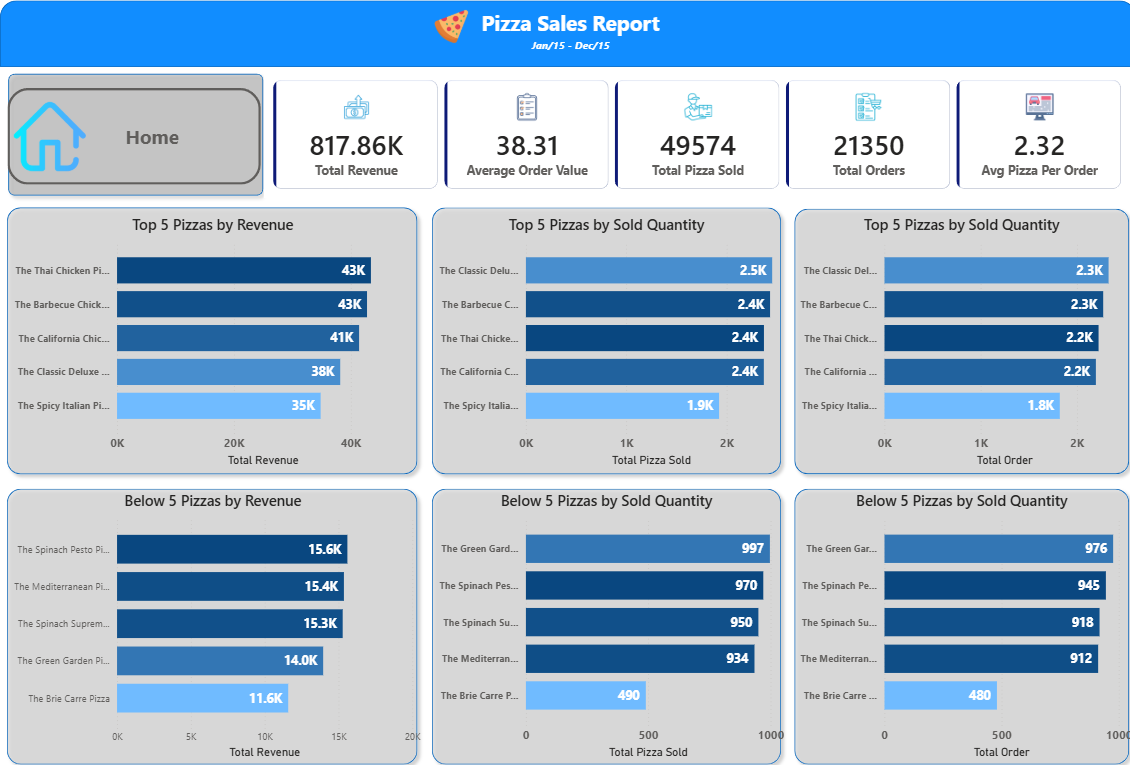

The page's visual inventory and layout, read from the dashboard file:
{"tool":"powerbi","page":{"name":"Top/Bottom Best Sellers","canvas":[1450,1000],"ordinal":1},"visuals":[{"type":"shape","box":[1.7,100,343.3,173.3],"z":0},{"type":"shape","box":[0,271.7,541.7,358.3],"z":1000},{"type":"cardVisual","fields":{"Data":["pizza_sales.Total Revenue","pizza_sales.average_order_value","pizza_sales.total_pizza_sold","pizza_sales.total_order","pizza_sales.avg_pizza_per_order"]},"box":[331.7,100,1118.3,173.3],"z":2000},{"type":"shape","box":[0,15.4,1450,84.8],"z":3000},{"type":"image","box":[541.8,27,67.5,44.3],"z":4000},{"type":"textbox","box":[609.3,21.2,252.6,55.9],"z":5000},{"type":"textbox","box":[672.9,59.8,121.5,32.8],"z":6000},{"type":"shape","box":[541.7,271.7,463.3,358.3],"z":7000},{"type":"shape","box":[1005,273.3,445,356.7],"z":8000},{"type":"shape","box":[0,630,541.7,370],"z":9000},{"type":"shape","box":[541.7,630,463.3,370],"z":10000},{"type":"shape","box":[1005,630,445,370],"z":11000},{"type":"clusteredBarChart","title":"Top 5 Pizzas by Revenue","fields":{"Y":["pizza_sales.Total Revenue"],"Category":["pizza_sales.pizza_name"]},"box":[1.7,288.3,540,326.7],"z":12000},{"type":"clusteredBarChart","title":"Below 5 Pizzas by Revenue","fields":{"Y":["pizza_sales.Total Revenue"],"Category":["pizza_sales.pizza_name"]},"box":[1.7,641.7,540,346.7],"z":13000},{"type":"clusteredBarChart","title":"Top 5 Pizzas by Sold Quantity","fields":{"Category":["pizza_sales.pizza_name"],"Y":["pizza_sales.total_pizza_sold"]},"box":[541.7,288.3,463.3,326.7],"z":14000},{"type":"clusteredBarChart","title":"Below 5 Pizzas by Sold Quantity","fields":{"Category":["pizza_sales.pizza_name"],"Y":["pizza_sales.total_pizza_sold"]},"box":[541.7,641.7,463.3,346.7],"z":15000},{"type":"clusteredBarChart","title":"Top 5 Pizzas by Sold Quantity","fields":{"Category":["pizza_sales.pizza_name"],"Y":["pizza_sales.total_order"]},"box":[1005,288.3,445,326.7],"z":16000},{"type":"clusteredBarChart","title":"Below 5 Pizzas by Sold Quantity","fields":{"Category":["pizza_sales.pizza_name"],"Y":["pizza_sales.total_order"]},"box":[1005,641.7,445,346.7],"z":17000},{"type":"actionButton","box":[10,128.3,323.3,123.3],"z":18000},{"type":"image","box":[10,143.3,108.3,91.7],"z":19000}]}

Visuals, with their boxes in screenshot pixels (x1, y1, x2, y2), scaled from the page's 1450x1000 canvas onto the 1130x765 screenshot:
shape: 1, 76, 269, 209
shape: 0, 208, 422, 482
cardVisual - pizza_sales.Total Revenue x pizza_sales.average_order_value: 258, 76, 1129, 209
shape: 0, 12, 1129, 77
image: 422, 21, 475, 55
textbox: 475, 16, 672, 59
textbox: 524, 46, 619, 71
shape: 422, 208, 783, 482
shape: 783, 209, 1129, 482
shape: 0, 482, 422, 764
shape: 422, 482, 783, 764
shape: 783, 482, 1129, 764
"Top 5 Pizzas by Revenue" clusteredBarChart: 1, 221, 422, 470
"Below 5 Pizzas by Revenue" clusteredBarChart: 1, 491, 422, 756
"Top 5 Pizzas by Sold Quantity" clusteredBarChart: 422, 221, 783, 470
"Below 5 Pizzas by Sold Quantity" clusteredBarChart: 422, 491, 783, 756
"Top 5 Pizzas by Sold Quantity" clusteredBarChart: 783, 221, 1129, 470
"Below 5 Pizzas by Sold Quantity" clusteredBarChart: 783, 491, 1129, 756
actionButton: 8, 98, 260, 192
image: 8, 110, 92, 180
